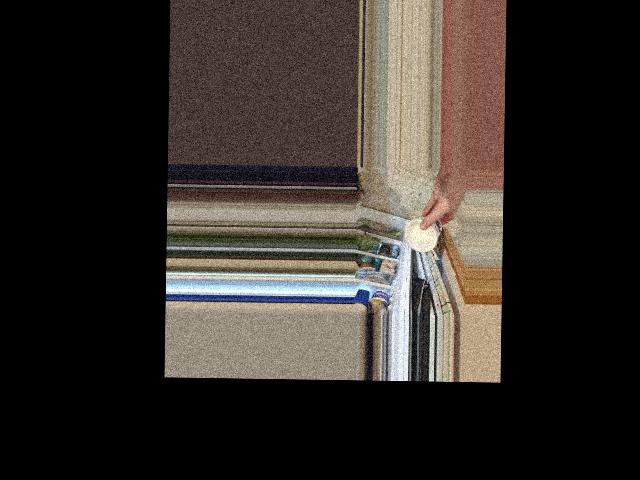cotage: (403, 215, 445, 255)
